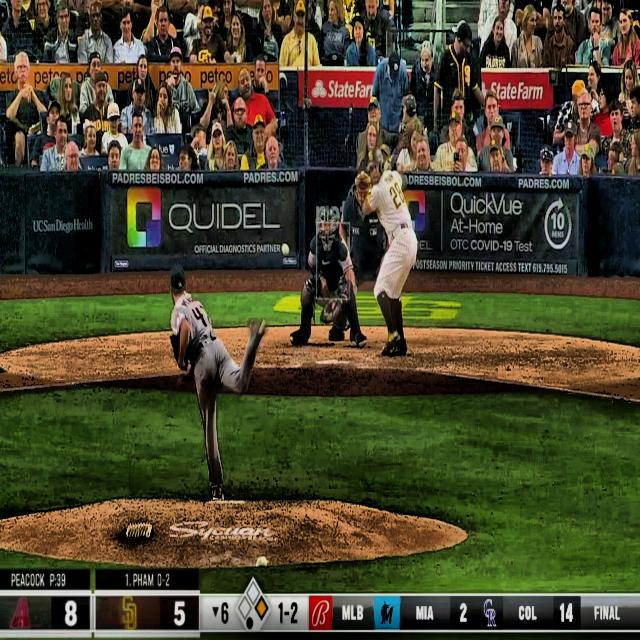baseball: (281, 242, 290, 257)
